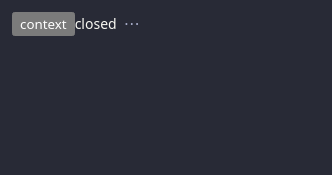
Test: CardMenu › closes when the trigger is clicked again
What coordinates should you click on to do the following:
click the button named "Task actions"
I would click on:
 (132, 23)
Its box is x1=117 y1=11 x2=147 y2=35.
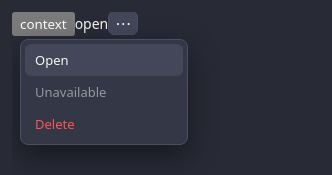
What coordinates should you click on to do the following:
click the button named "Task actions"
I would click on:
 (123, 23)
Its box is x1=108 y1=11 x2=138 y2=35.
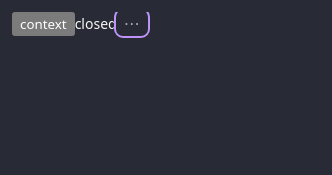
expect the menu is gone: met
